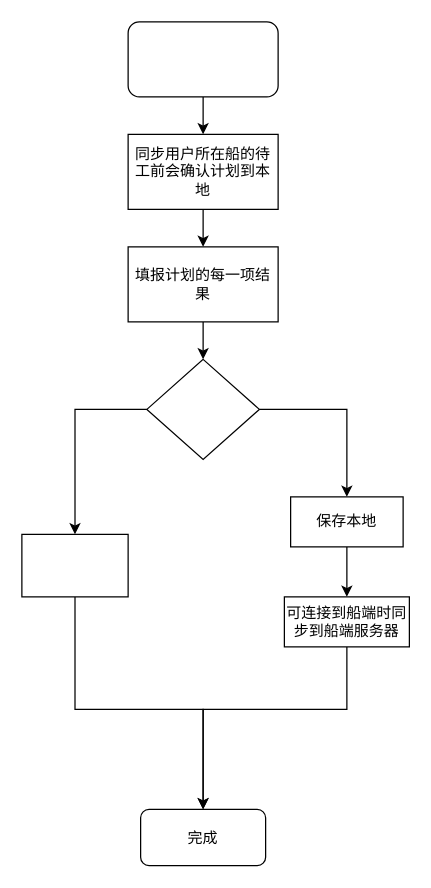
Some shapes in this 431 by 888 pixel diagram are drawn without their labels. The shapes that lost their labels are listed below. From the top down, each one's box as (x1, y1, x2, y2) in pixels, then its label:
(127, 21, 278, 97): 完工填报
(146, 358, 259, 459): 是否连接到 船端服务器
(21, 533, 128, 597): 提交到船端服务器
